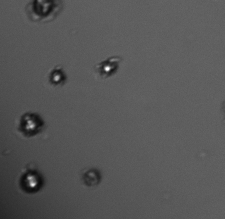Dead Cell: (30, 1, 56, 19), (83, 169, 100, 186)
Living Cell: (20, 113, 42, 137), (21, 172, 42, 193), (98, 60, 118, 76), (50, 68, 65, 85)
